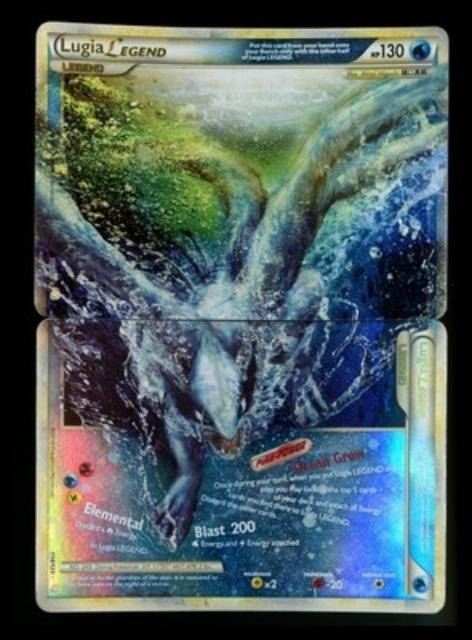Card: (33, 18, 452, 322), (33, 316, 451, 617)
Name: (53, 33, 172, 63), (411, 334, 437, 427)
